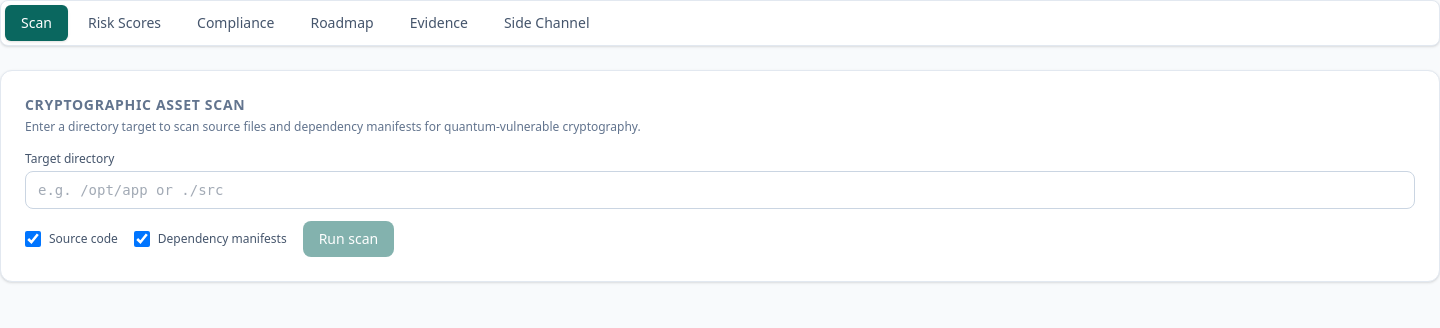
ScannerDashboard › shows the backend error message when the scan request fails
The image size is (1440, 328).
Type "/repo" into the field with placeholder "e.g. /opt/app or ./src" at (720, 190), box x1=25 y1=171 x2=1415 y2=209
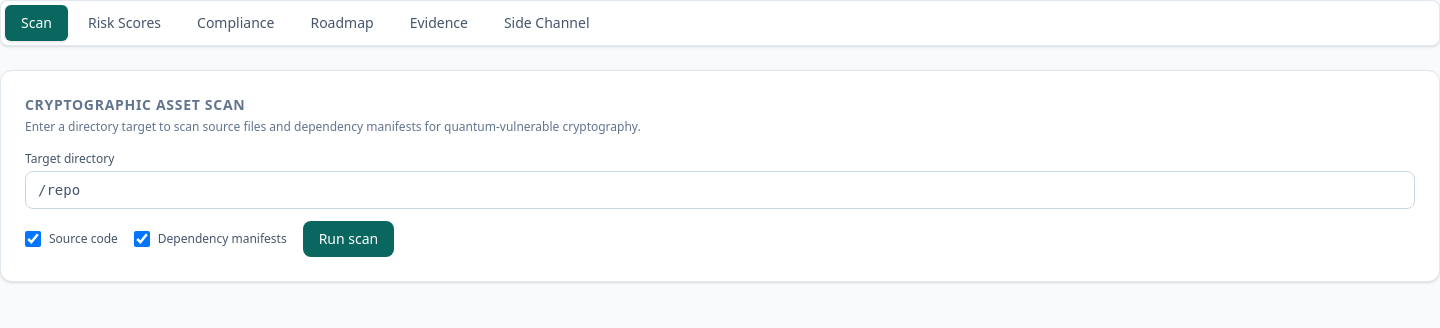
Click the button "Run scan" at (348, 239), box x1=303 y1=221 x2=394 y2=257
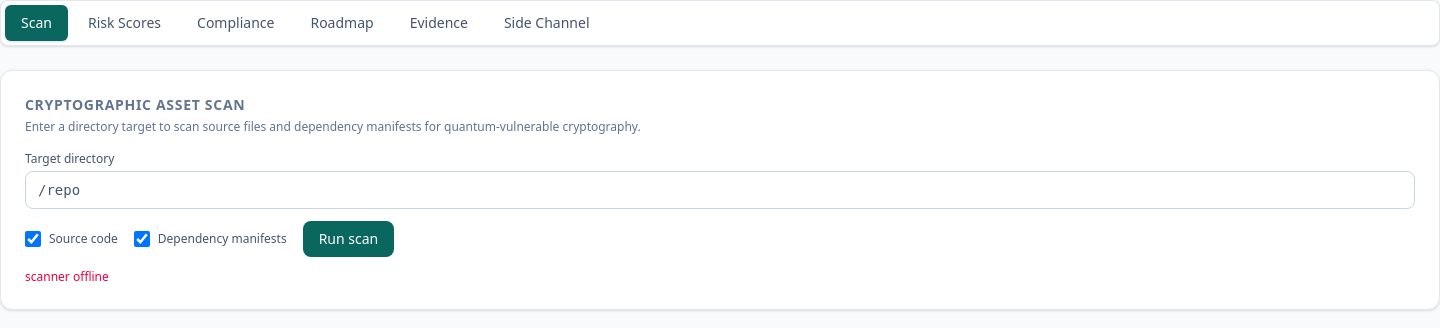
expect the text "scanner offline" is shown: met, box x1=25 y1=268 x2=109 y2=285
